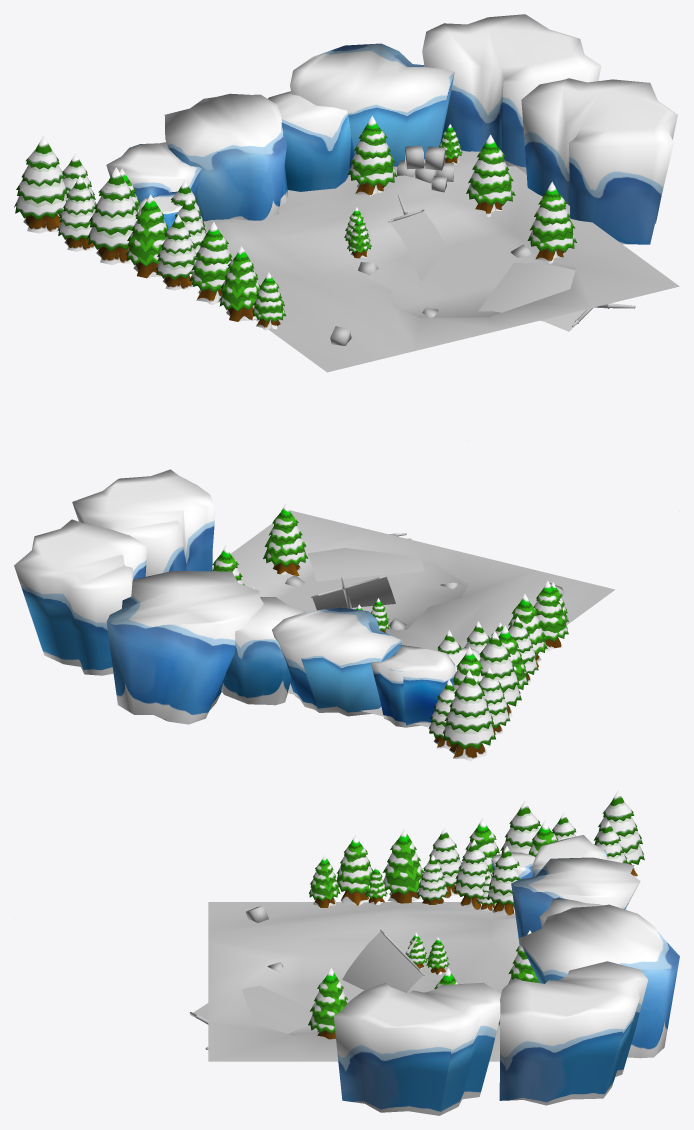
Rendered from Map_1_B_3.FBX.
3 views of the same model, one above another, from view 1: azimuth 30°, elevation 25°; view 2: azimuth 150°, elevation 25°; view 3: azimuth 270°, elevation 25° (orthographic). The views are drawn at different scales.
Visible parts, largest first — view 1: tereno2, Iceberg017, Iceberg011, Iceberg012, Iceberg013, Iceberg009, ferry01, Three055, Iceberg014, Three040, Three058, Three056 (+12 smaller); view 2: tereno2, Iceberg013, Iceberg011, Iceberg012, Iceberg017, Iceberg009, Iceberg014, Three055, ferry01, Three056, ferry03, Three040 (+8 smaller); view 3: tereno2, Iceberg017, Iceberg011, Iceberg013, Iceberg012, ferry03, ferry01, Three049, Three045, Three055, Three056, Three050 (+13 smaller).
Part boxes in pixels (left/top/right/bottom): tereno2: left=203, top=150, right=679, bottom=372; Iceberg017: left=521, top=78, right=677, bottom=244; Iceberg011: left=422, top=14, right=601, bottom=173; Iceberg012: left=164, top=93, right=288, bottom=221; Iceberg013: left=290, top=43, right=454, bottom=168; Iceberg009: left=268, top=91, right=351, bottom=191; ferry01: left=478, top=263, right=635, bottom=331; Three055: left=14, top=136, right=67, bottom=233; Iceberg014: left=106, top=142, right=201, bottom=206; Three040: left=87, top=167, right=137, bottom=264; Three058: left=348, top=115, right=397, bottom=196; Three056: left=527, top=181, right=576, bottom=263; tereno2: left=212, top=510, right=615, bottom=727; Iceberg013: left=106, top=571, right=263, bottom=724; Iceberg011: left=14, top=519, right=147, bottom=675; Iceberg012: left=272, top=607, right=402, bottom=716; Iceberg017: left=72, top=469, right=215, bottom=576; Iceberg009: left=221, top=597, right=305, bottom=705; Iceberg014: left=371, top=645, right=455, bottom=727; Three055: left=442, top=670, right=495, bottom=761; ferry01: left=307, top=533, right=424, bottom=581; Three056: left=263, top=503, right=308, bottom=575; ferry03: left=311, top=575, right=395, bottom=610; Three040: left=479, top=631, right=521, bottom=717; tereno2: left=208, top=902, right=519, bottom=1061; Iceberg017: left=333, top=982, right=501, bottom=1115; Iceberg011: left=499, top=961, right=647, bottom=1105; Iceberg013: left=518, top=904, right=679, bottom=1058; Iceberg012: left=511, top=857, right=640, bottom=944; ferry03: left=342, top=929, right=424, bottom=992; ferry01: left=190, top=985, right=312, bottom=1049; Three049: left=382, top=829, right=423, bottom=903; Three045: left=336, top=835, right=373, bottom=905; Three055: left=593, top=790, right=644, bottom=876; Three056: left=308, top=967, right=347, bottom=1039; Three050: left=453, top=840, right=492, bottom=910.
Bounding box in the file's own units: 771 × 175 × 882.
